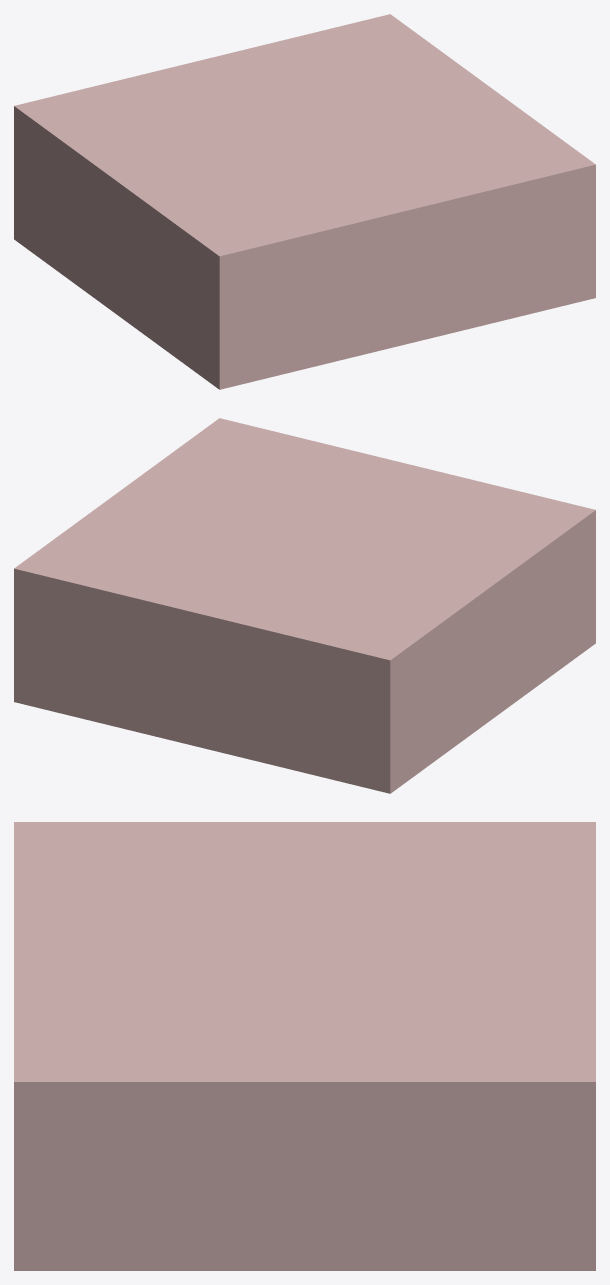
File: BlackBox1.FBX
3 renders of one model, top to bottom at view 1: azimuth 30°, elevation 25°; view 2: azimuth 150°, elevation 25°; view 3: azimuth 270°, elevation 25°, orthographic. The views are drawn at different scales.
Visible parts, largest first — view 1: ModuleSC_BlackBox1; view 2: ModuleSC_BlackBox1; view 3: ModuleSC_BlackBox1.
Boxes of the visible parts, x1,y1,x2,y2 form: ModuleSC_BlackBox1: (14,14,595,389); ModuleSC_BlackBox1: (14,418,595,793); ModuleSC_BlackBox1: (14,822,595,1270).
Bounding box in the file's own units: 1494 × 506 × 1414.
